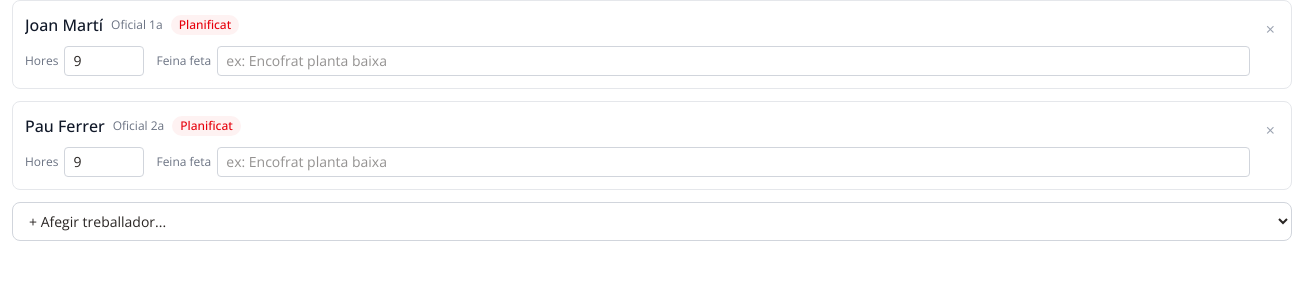
Test case: ActaTreballadorsEditor — edició local (sense crides al servidor) › afegir un treballador no planificat li assigna planificat=false
Marc Soler no estava planificat — seleccionar al desplegable d'afegir
Step 1. Select "Marc Soler (Peó)" in the dropdown named "afegir treballador" → {"x": 652, "y": 221}, box [12, 202, 1292, 241]
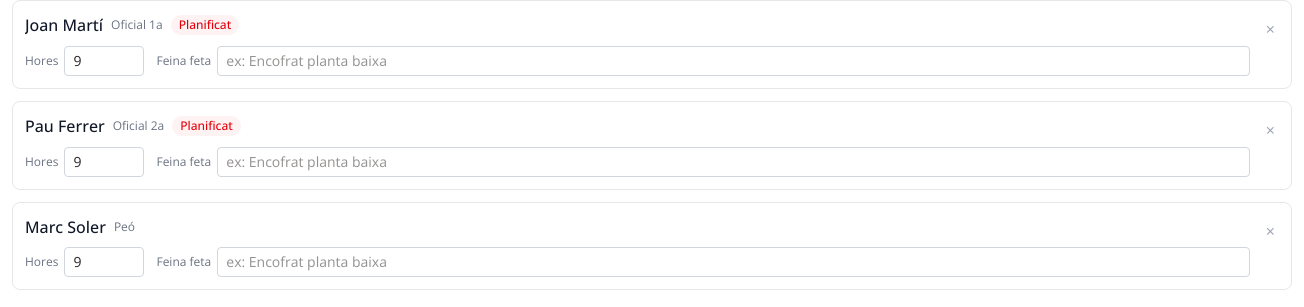
Expected: the text "Marc Soler" is shown, [25, 215, 106, 239]
